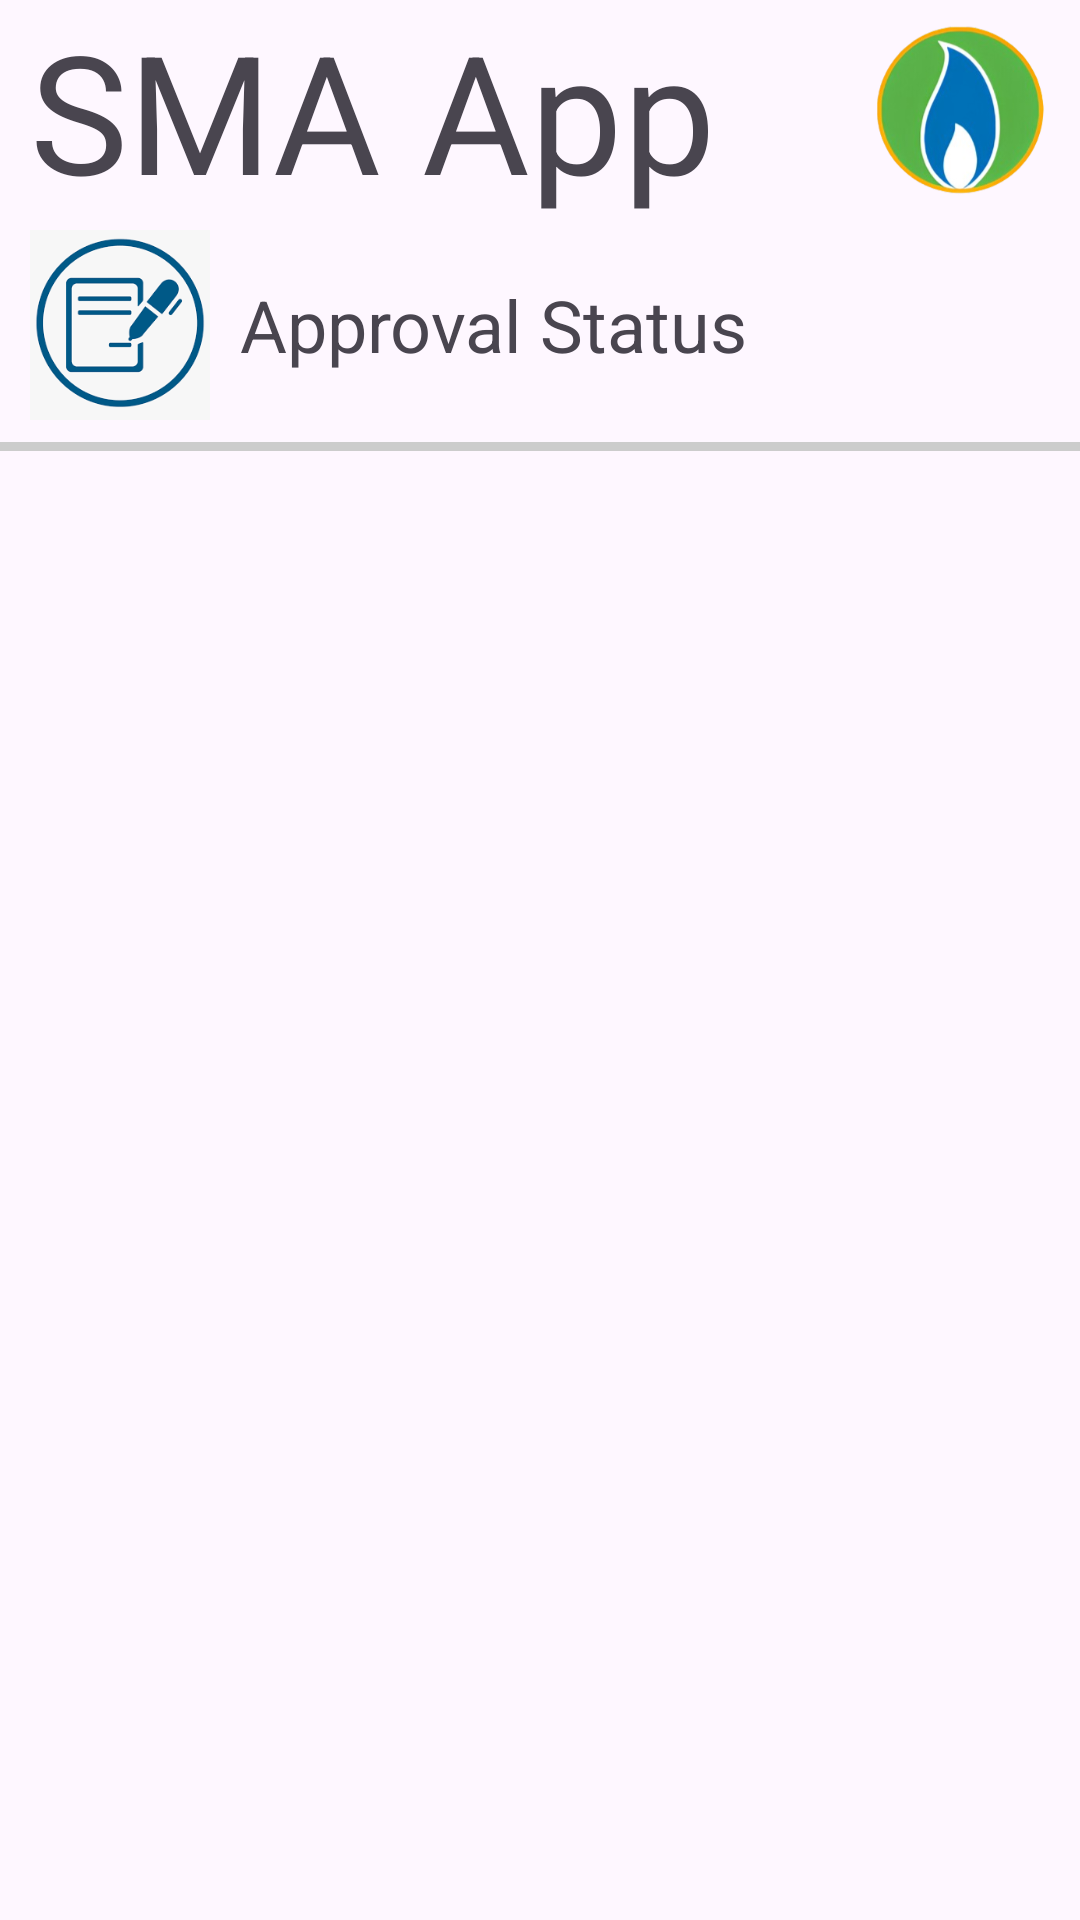

Icons on this 1080w x 1920h Android screen, each with its box as (x1, y1, x2, y2):
request: (36, 238, 204, 407)
